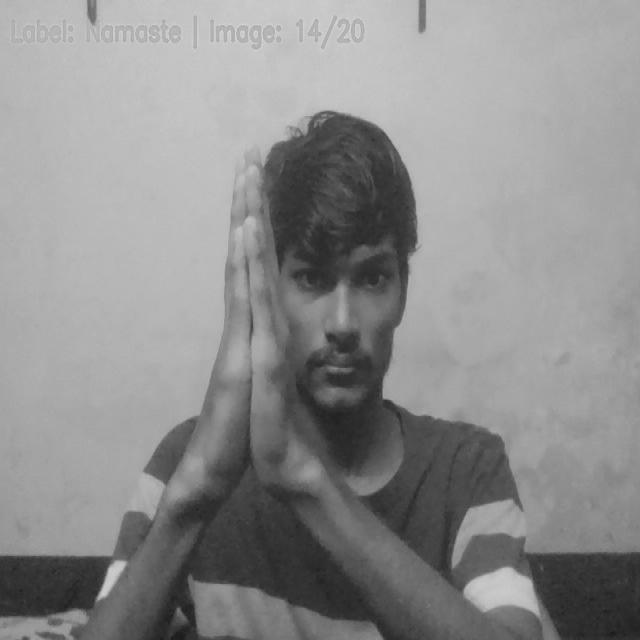Namaste: (194, 150, 292, 483)
